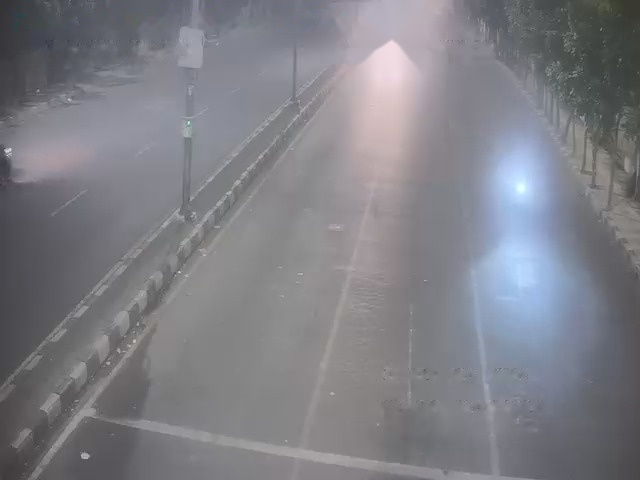Motor: (505, 171, 530, 204)
